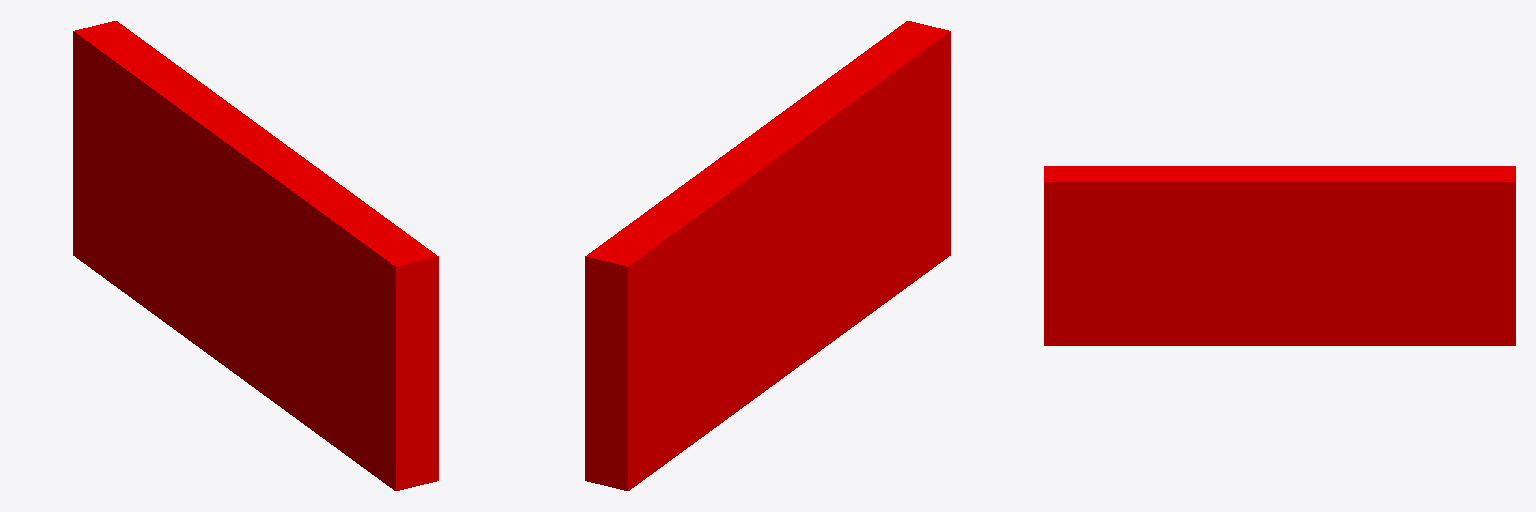
robot.urdf — side_boundaries:
<?xml version="1.0"?>
<!-- created with Phobos 1.0.1 "Capricious Choutengan" -->
  <robot name="side_boundaries">

    <link name="side_wall">
      <inertial>
        <contact>
          <lateral_friction value="1"/>
        </contact>
        <origin xyz="0 0 0" rpy="0 0 0"/>
        <mass value="0.001"/>
        <inertia ixx="0.001" ixy="0" ixz="0" iyy="0.001" iyz="0" izz="0.001"/>
      </inertial>
      <visual name="Cube">
        <origin xyz="0 0 0" rpy="0 0 0"/>
        <geometry>
          <box size="0.1 1.3 0.5"/>
        </geometry>
        <material name="red">
          <color rgba="1.0 0 0 1.0"/>
        </material>
      </visual>
      <collision>
        <origin rpy="0 0 0" xyz="0 0 0"/>
        <geometry>
          <box size="0.1 1.3 0.5"/>
        </geometry>
      </collision>
    </link>

    <material name="blue">
      <color rgba="0.68 0.74 0.04 1.0"/>
    </material>

  </robot>

--- Render facts (derived) ---
The picture shows the robot from 3 angles, left to right: view 1: azimuth 30°, elevation 25°; view 2: azimuth 150°, elevation 25°; view 3: azimuth 270°, elevation 25°; orthographic projection.
Model side_boundaries with 1 links and 0 joints (none), rooted at side_wall, posed every joint at zero.
Visible links, largest first — view 1: side_wall; view 2: side_wall; view 3: side_wall.
Boxes of the visible links, <box> form: side_wall: <box>73,21,438,490</box>; side_wall: <box>585,21,950,490</box>; side_wall: <box>1044,166,1515,345</box>.
Bounding box of the posed robot: 0.1 × 1.3 × 0.5 m (x, y, z).
Geometry: primitives only (box / cylinder / sphere), no mesh files.